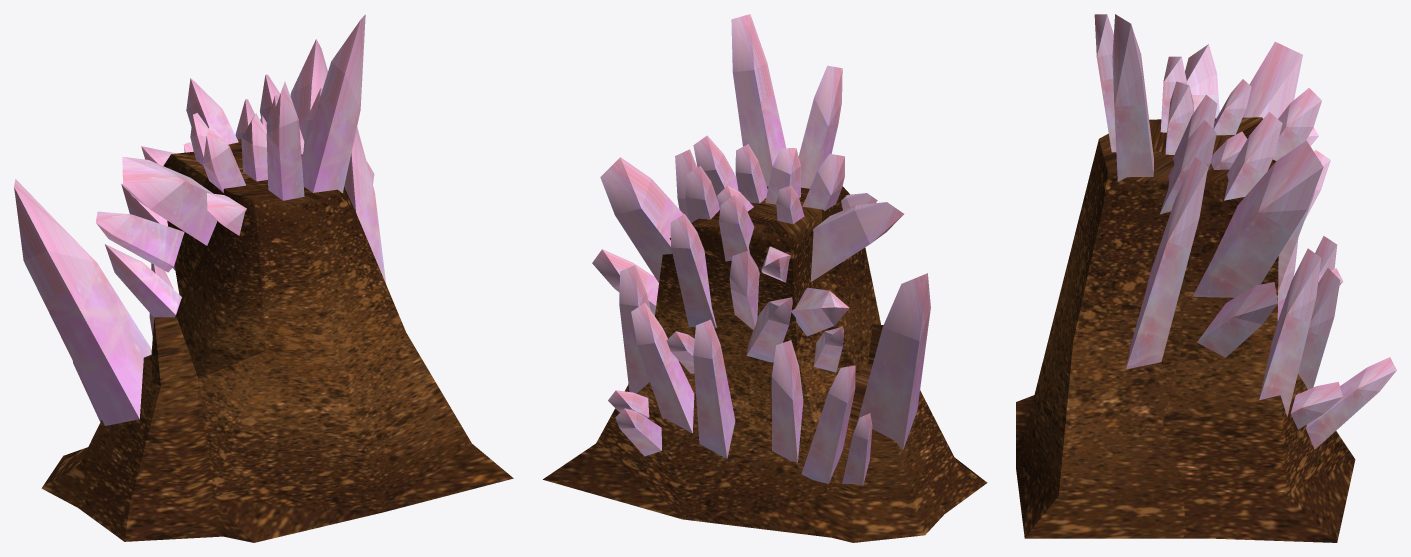
File: Large_Rock_Crystals.fbx
3 views of the same model, side by side, from view 1: azimuth 30°, elevation 25°; view 2: azimuth 150°, elevation 25°; view 3: azimuth 270°, elevation 25° (orthographic). The views are drawn at different scales.
Parts seen in each view (by area): view 1: Rock_Large, Crystal_25, Crystal_28, Crystal_29, Crystal_17, Crystal_3, Crystal_10, Crystal_4, Crystal_22, Crystal_30, Crystal_1, Crystal_21 (+4 smaller); view 2: Rock_Large, Crystal_25, Crystal_28, Crystal_22, Crystal_5, Crystal_20, Crystal_29, Crystal_7, Crystal_8, Crystal_27, Crystal_17, Crystal_6 (+18 smaller); view 3: Rock_Large, Crystal_22, Crystal_4, Crystal_28, Crystal_6, Crystal_9, Crystal_25, Crystal_11, Crystal_23, Crystal_20, Crystal_21, Crystal_19 (+11 smaller).
Boxes of the visible parts, x1,y1,x2,y2 form: Rock_Large: (41, 139, 513, 542); Crystal_25: (14, 179, 151, 425); Crystal_28: (301, 14, 365, 192); Crystal_29: (122, 157, 216, 245); Crystal_17: (266, 81, 304, 200); Crystal_3: (95, 211, 184, 272); Crystal_10: (105, 244, 181, 317); Crystal_4: (344, 126, 385, 283); Crystal_22: (290, 39, 327, 140); Crystal_30: (203, 124, 245, 192); Crystal_1: (241, 113, 267, 181); Crystal_21: (186, 78, 238, 144); Rock_Large: (543, 186, 987, 542); Crystal_25: (856, 273, 930, 450); Crystal_28: (731, 14, 786, 186); Crystal_22: (600, 157, 683, 282); Crystal_5: (693, 319, 735, 458); Crystal_20: (631, 303, 694, 433); Crystal_29: (810, 202, 903, 281); Crystal_7: (801, 365, 855, 483); Crystal_8: (771, 340, 803, 462); Crystal_27: (670, 214, 716, 328); Crystal_17: (798, 65, 842, 188); Crystal_6: (619, 265, 650, 393); Rock_Large: (1016, 117, 1355, 542); Crystal_22: (1192, 140, 1323, 297); Crystal_4: (1126, 157, 1207, 369); Crystal_28: (1112, 14, 1153, 181); Crystal_6: (1259, 248, 1321, 416); Crystal_9: (1197, 282, 1277, 357); Crystal_25: (1243, 41, 1302, 118); Crystal_11: (1306, 357, 1396, 449); Crystal_23: (1224, 112, 1282, 200); Crystal_20: (1298, 268, 1340, 389); Crystal_21: (1273, 88, 1321, 160); Crystal_19: (1159, 120, 1216, 214).
Size of the model in its own units: 3.73 by 4.18 by 3.07.
